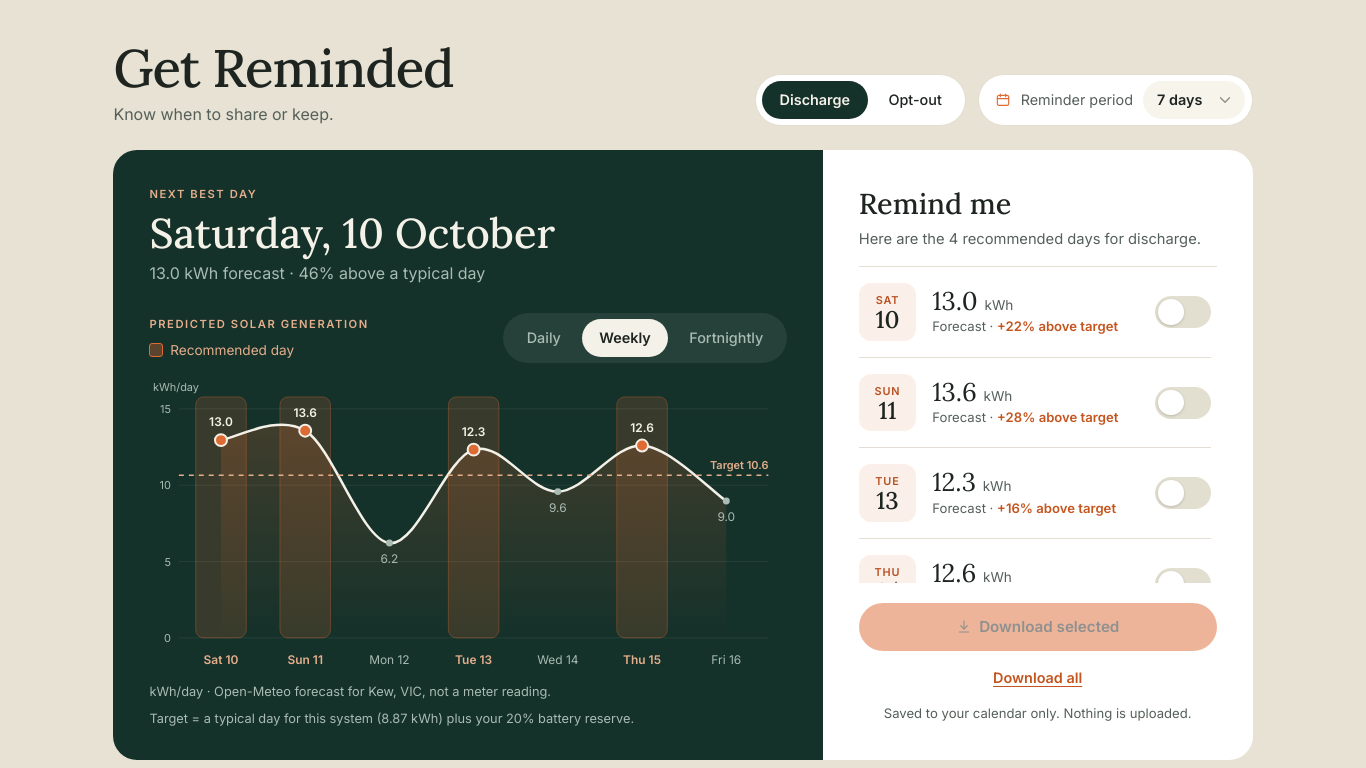
Test: Get Reminded page › downloads only the selected days and remembers them on this device
Check: the heading "Remind me" is shown, box [859, 185, 1011, 222]
Check: the button "Download selected" is disabled, box [859, 603, 1217, 651]
Click the switch named "Remind me on Saturday, 10 October": (1183, 312) [1155, 296, 1211, 328]
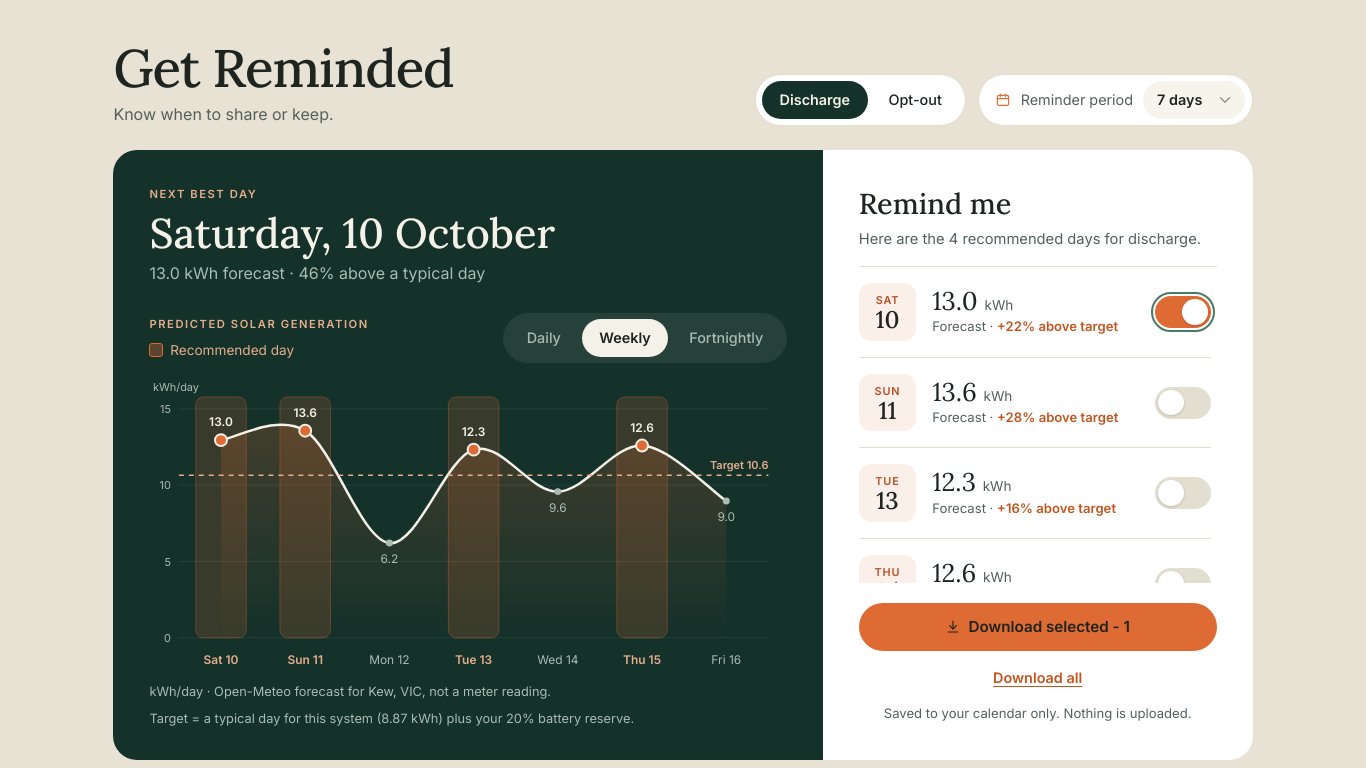
Click the switch named "Remind me on Sunday, 11 October": (1183, 403) [1155, 387, 1211, 419]
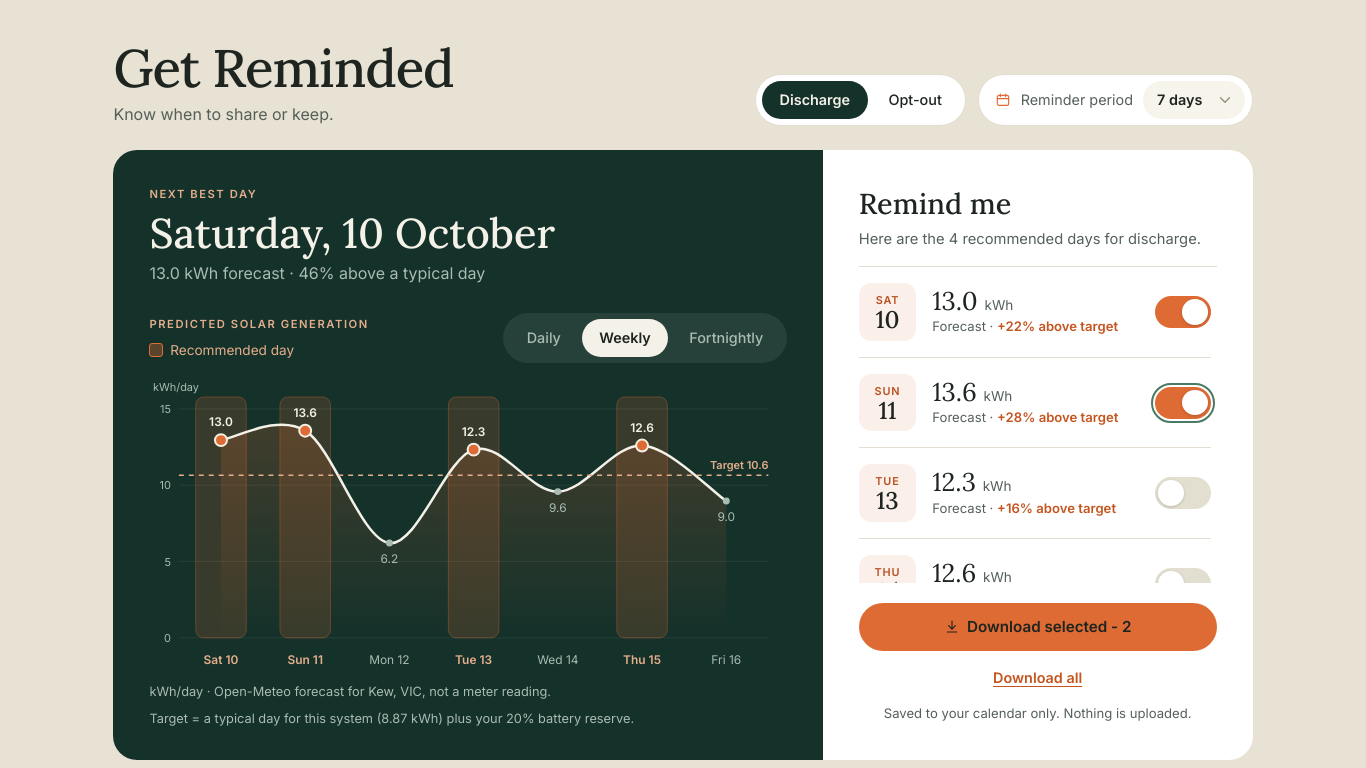
Check: the button "Download selected - 2" is shown
Click the button "Download selected - 2": (1038, 627) [859, 603, 1217, 651]
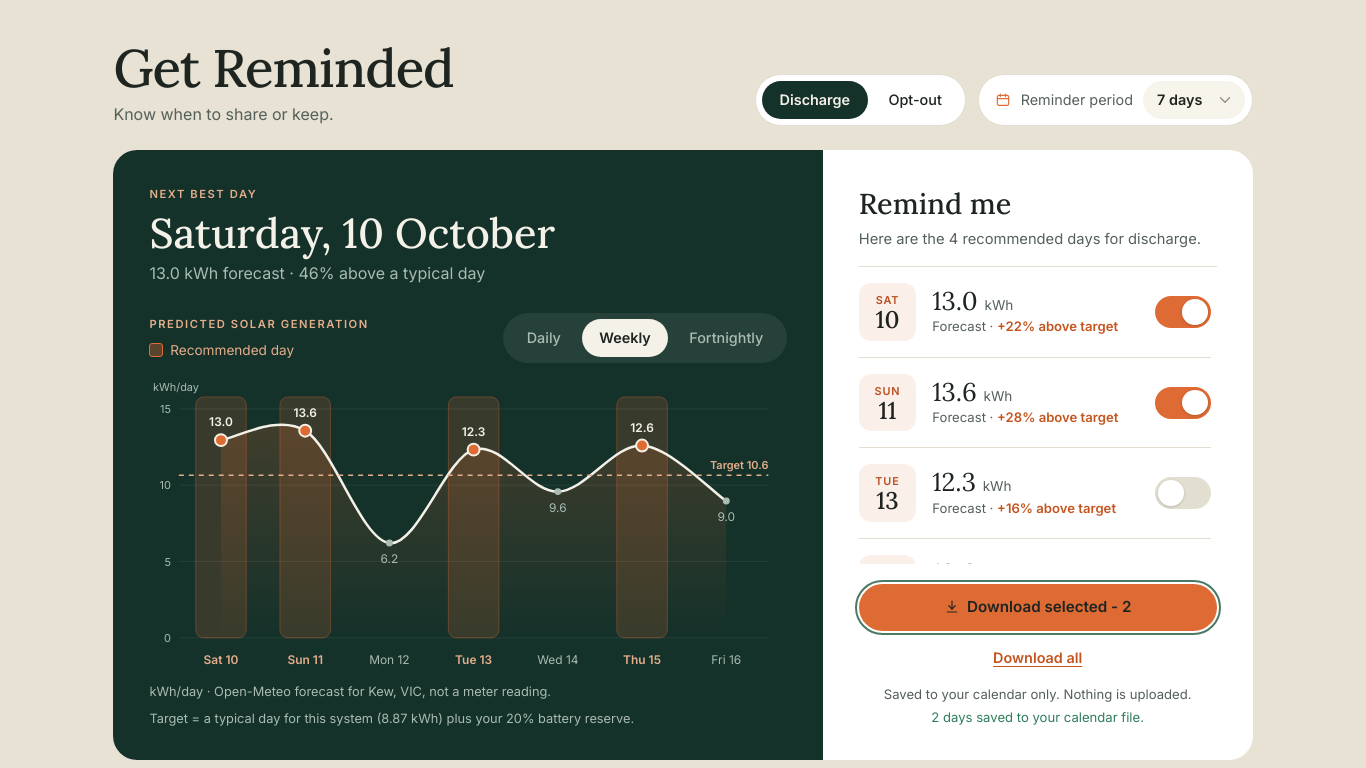
Check: the text "2 days saved to your calendar file." is shown, box [931, 709, 1144, 725]
